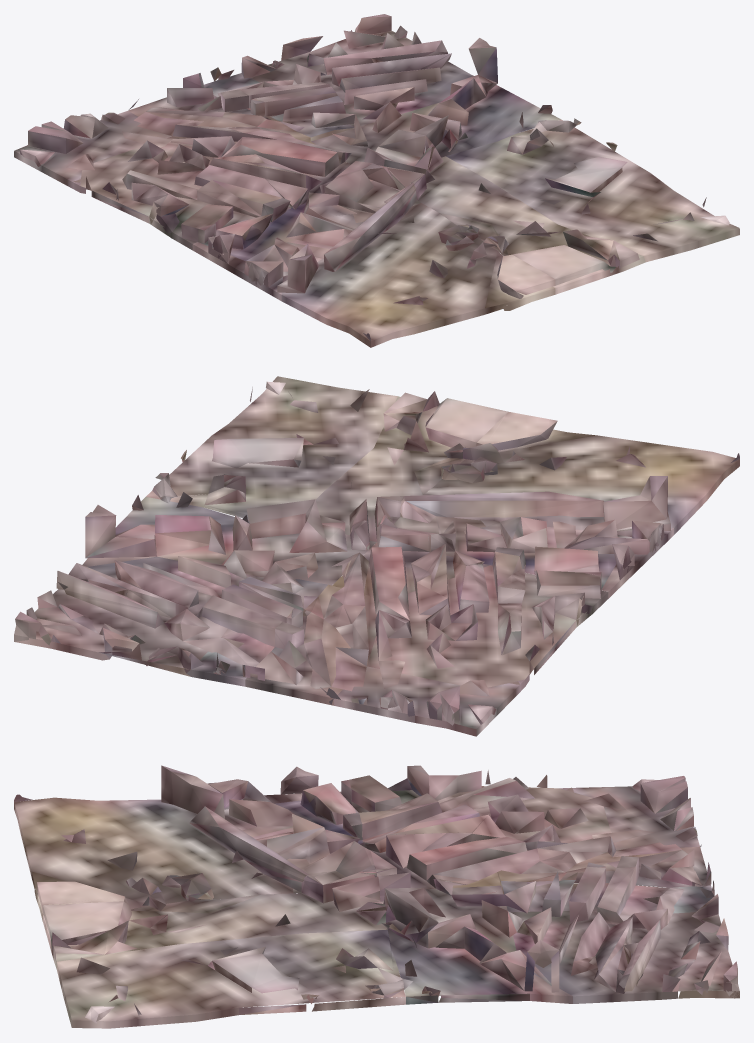
3 renders of one model, top to bottom at view 1: azimuth 30°, elevation 25°; view 2: azimuth 150°, elevation 25°; view 3: azimuth 270°, elevation 25°, orthographic. The views are drawn at different scales.
Visible parts, largest first — view 1: Mesh_0; view 2: Mesh_0; view 3: Mesh_0.
Part boxes in pixels (x1,y1,x2,y2): Mesh_0: (14, 14, 739, 347); Mesh_0: (14, 376, 739, 736); Mesh_0: (14, 765, 739, 1028).
Size of the model in its own units: 532 by 66.83 by 659.
1 material, 1 textured.
